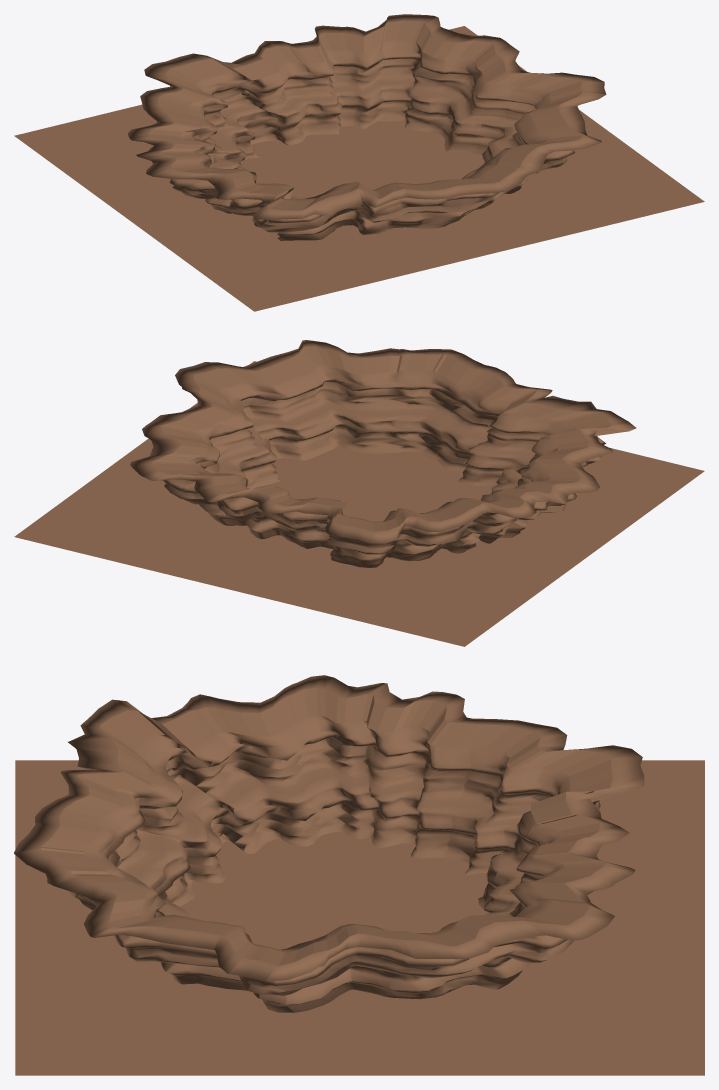
Rendered from cliff_Export.fbx.
The picture shows the model from 3 angles, top to bottom: view 1: azimuth 30°, elevation 25°; view 2: azimuth 150°, elevation 25°; view 3: azimuth 270°, elevation 25°; orthographic projection. The views are drawn at different scales.
Parts seen in each view (by area): view 1: cliff, pPlane1; view 2: cliff, pPlane1; view 3: cliff, pPlane1.
Part boxes in pixels (left/top/right/bottom): cliff: left=128, top=14, right=606, bottom=240; pPlane1: left=14, top=26, right=704, bottom=311; cliff: left=130, top=340, right=636, bottom=567; pPlane1: left=14, top=361, right=704, bottom=646; cliff: left=14, top=675, right=644, bottom=1012; pPlane1: left=15, top=760, right=704, bottom=1075.
Bounding box in the file's own units: 216 × 33.06 × 200.
